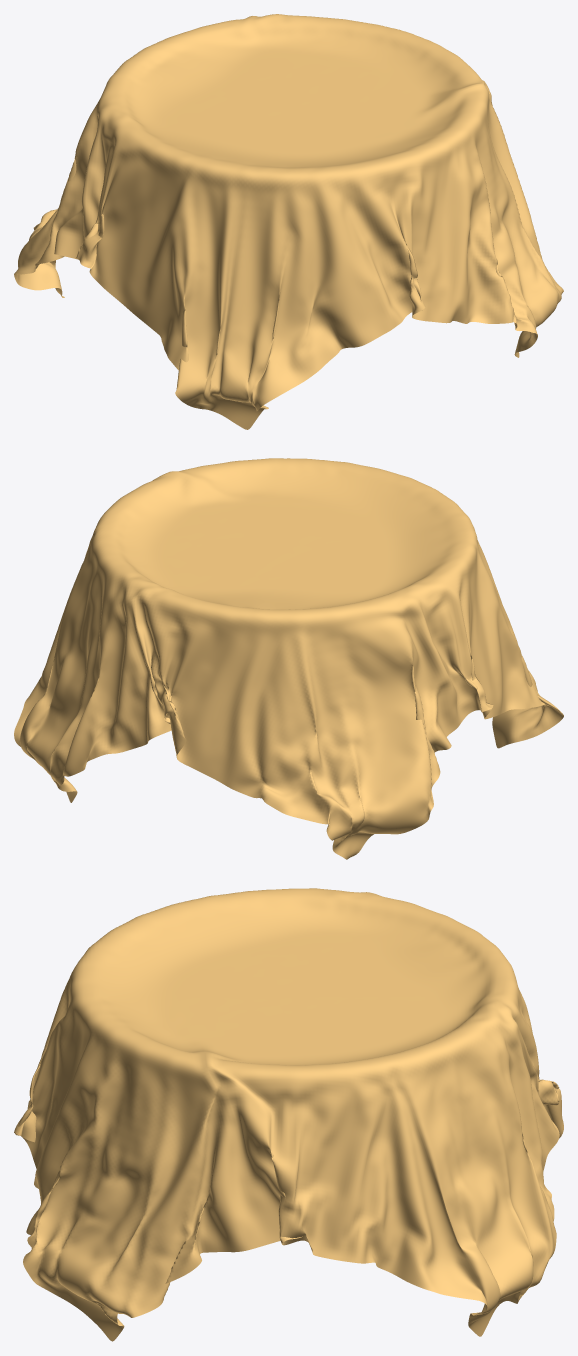
Rendered from cloth for barrel.fbx.
3 views of the same model, one above another, from view 1: azimuth 30°, elevation 25°; view 2: azimuth 150°, elevation 25°; view 3: azimuth 270°, elevation 25° (orthographic). The views are drawn at different scales.
Parts seen in each view (by area): view 1: Plane; view 2: Plane; view 3: Plane.
Part boxes in pixels (box(x1,y1,x2,y2)): Plane: box(14, 14, 563, 429); Plane: box(14, 458, 563, 859); Plane: box(14, 888, 563, 1341).
Size of the model in its own units: 222 by 125 by 219.
